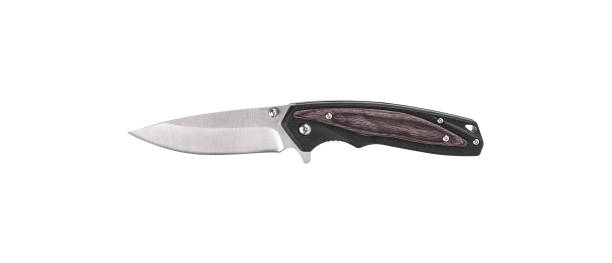knife: (123, 98, 485, 166)
